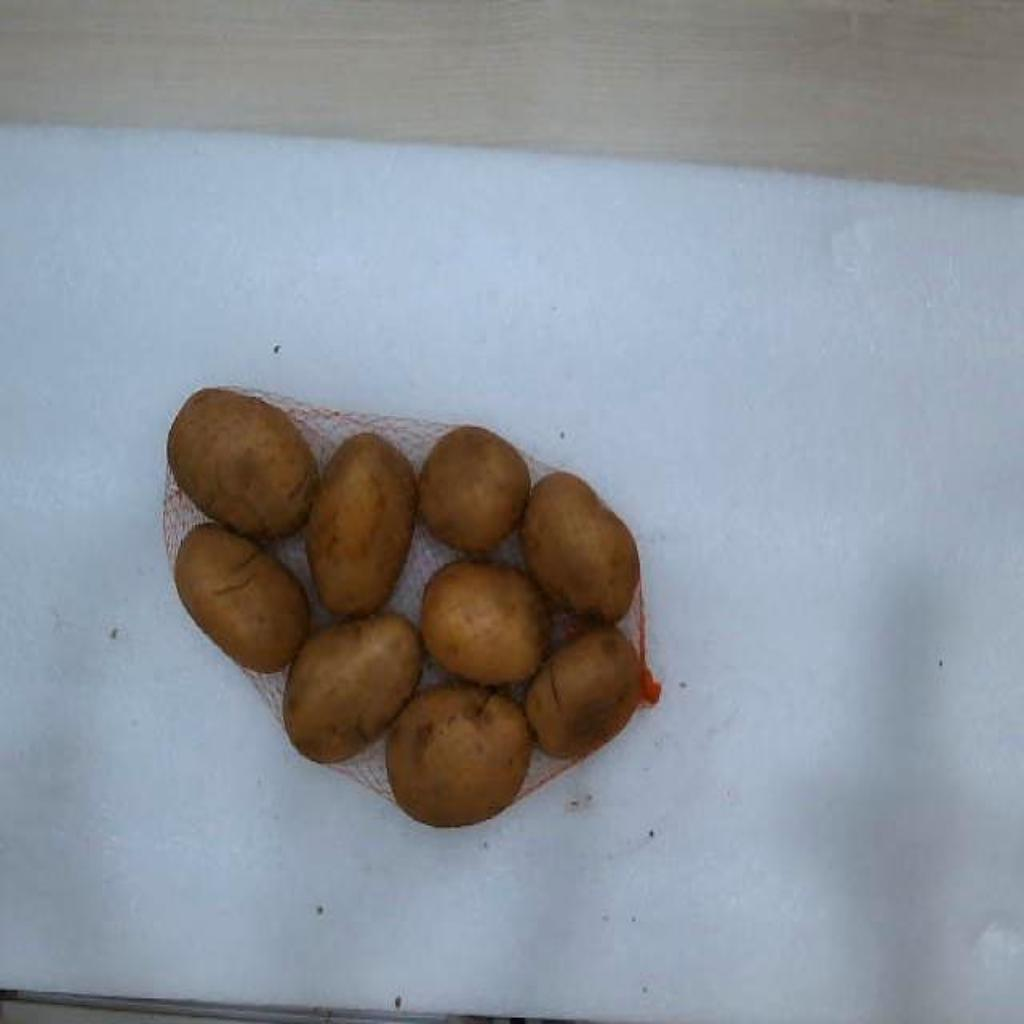potato: (168, 389, 318, 537), (284, 613, 422, 763), (306, 432, 418, 615), (174, 523, 308, 672), (388, 685, 530, 825), (522, 472, 640, 620), (422, 560, 550, 684), (526, 629, 644, 756), (418, 429, 530, 551)
